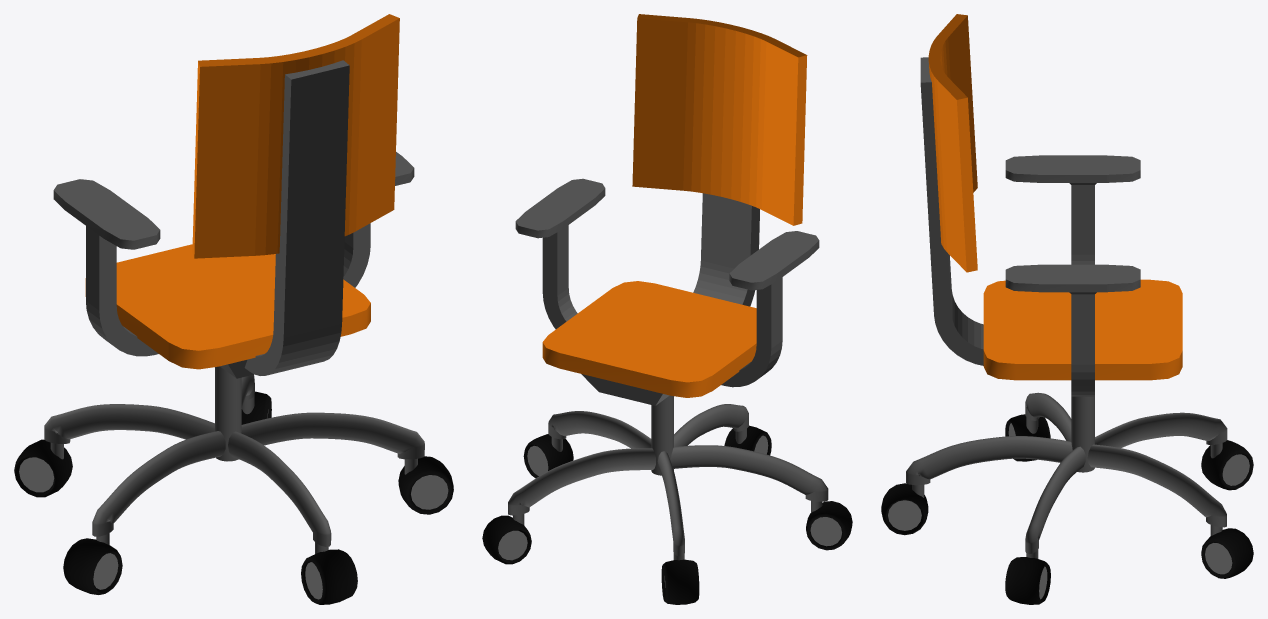
The model's file is office chair.fbx.
The picture shows the model from 3 angles, left to right: view 1: azimuth 30°, elevation 25°; view 2: azimuth 150°, elevation 25°; view 3: azimuth 270°, elevation 25°; orthographic projection. The views are drawn at different scales.
Visible parts, largest first — view 1: Backrest, Backrest base, Seat 2, Spline 3D (×4), Wheel outer (×5), armrest, Armrest left, Wheel inner (×3), stand, Armrest right; view 2: Backrest, Seat 2, Spline 3D (×5), armrest (×2), Wheel outer (×5), Backrest base, Armrest left, Armrest right, Wheel inner (×2), stand, base; view 3: Seat 2, Spline 3D (×5), Backrest, armrest (×2), Wheel outer (×5), Backrest base, Armrest right, Wheel inner (×3), Armrest left, stand.
Boxes of the visible parts, x1,y1,x2,y2 form: Backrest: (192, 14, 399, 258); Backrest base: (244, 60, 349, 375); Seat 2: (85, 244, 370, 369); Spline 3D (×4): (44, 404, 424, 546); Wheel outer (×5): (14, 391, 453, 604); armrest: (53, 179, 160, 249); Armrest left: (86, 226, 158, 356); Wheel inner (×3): (19, 457, 448, 589); stand: (215, 366, 241, 461); Armrest right: (343, 223, 370, 287); Backrest: (632, 14, 807, 225); Seat 2: (542, 281, 756, 397); Spline 3D (×5): (508, 404, 828, 556); armrest (×2): (515, 178, 819, 290); Wheel outer (×5): (482, 425, 852, 604); Backrest base: (693, 193, 759, 306); Armrest left: (721, 277, 782, 387); Armrest right: (542, 225, 577, 329); Wheel inner (×2): (498, 517, 841, 560); stand: (651, 395, 673, 475); base: (581, 374, 669, 405); Seat 2: (983, 279, 1182, 380); Spline 3D (×5): (906, 392, 1227, 554); Backrest: (928, 14, 977, 272); armrest (×2): (1005, 155, 1140, 292); Wheel outer (×5): (881, 414, 1253, 604); Backrest base: (920, 57, 983, 365); Armrest right: (1071, 294, 1094, 396); Wheel inner (×3): (888, 454, 1249, 574); Armrest left: (1071, 185, 1094, 264); stand: (1071, 396, 1094, 472).
Size of the model in its own units: 0.6558 by 0.8804 by 0.6265.
